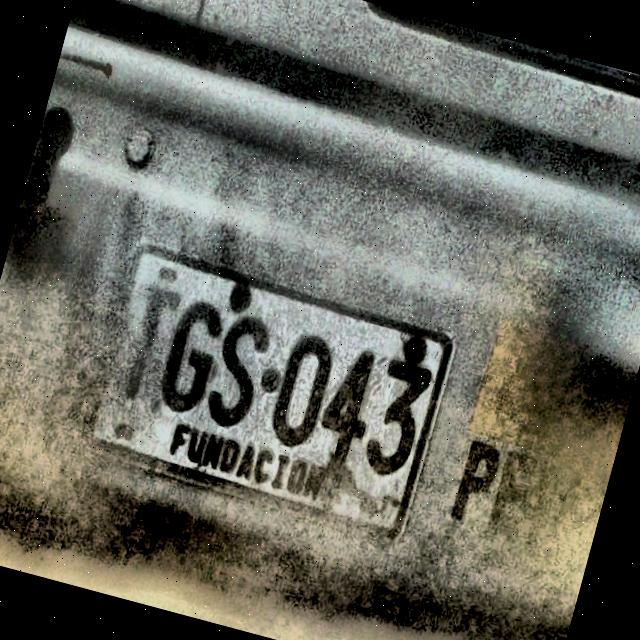0: (264, 328, 342, 453)
3: (354, 352, 436, 482)
4: (312, 340, 388, 466)
G: (152, 290, 234, 422)
S: (200, 308, 276, 434)
T: (106, 280, 184, 412)
